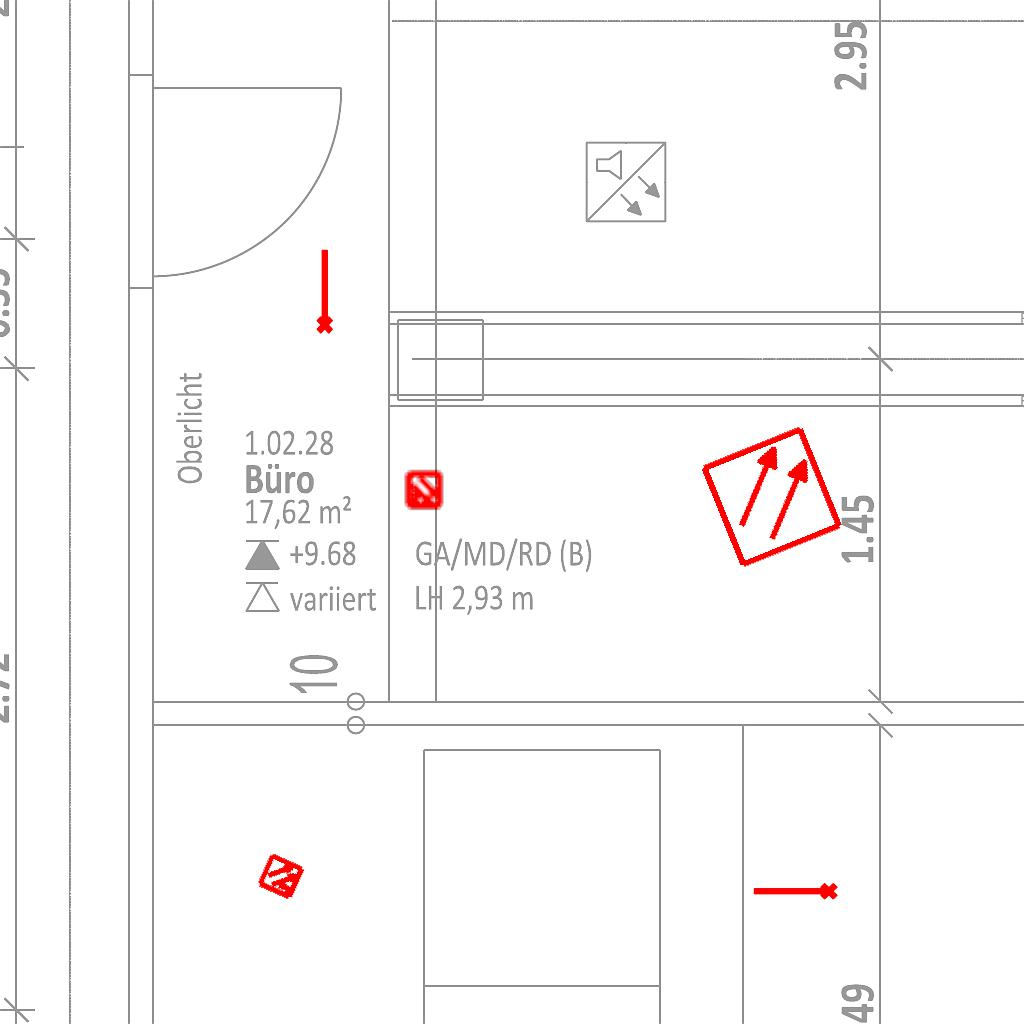ASR_Ansaugoeffnung: (312, 247, 335, 335), (751, 881, 839, 904)
OT_Multisensormelder_(Kombination_RMO_WMD): (245, 840, 319, 914), (396, 463, 452, 519)
RMO_Rauchmelder_optischer: (697, 422, 846, 571)
